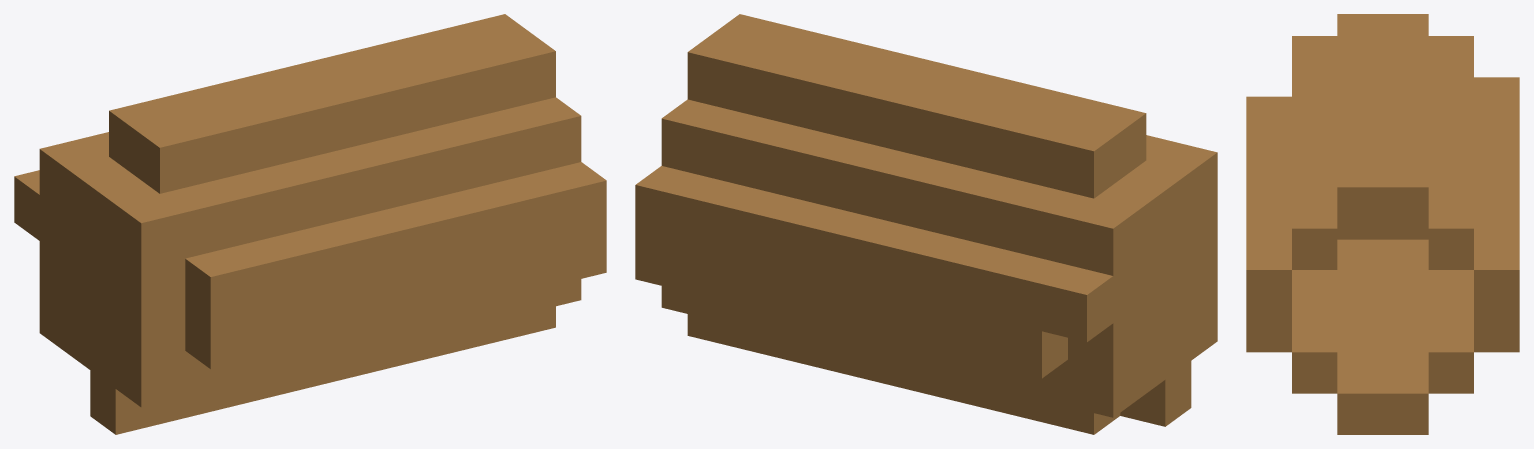
The model's file is case_9x19.glb.
3 renders of one model, left to right at view 1: azimuth 30°, elevation 25°; view 2: azimuth 150°, elevation 25°; view 3: azimuth 270°, elevation 25°, orthographic. The views are drawn at different scales.
Parts seen in each view (by area): view 1: cartridge:cartridge-model; view 2: cartridge:cartridge-model; view 3: cartridge:cartridge-model.
Boxes of the visible parts, left/top/right/bottom form: cartridge:cartridge-model: left=14, top=14, right=606, bottom=434; cartridge:cartridge-model: left=635, top=14, right=1217, bottom=434; cartridge:cartridge-model: left=1246, top=14, right=1519, bottom=434.
Size of the model in its own units: 0.02 by 0.012 by 0.012.
